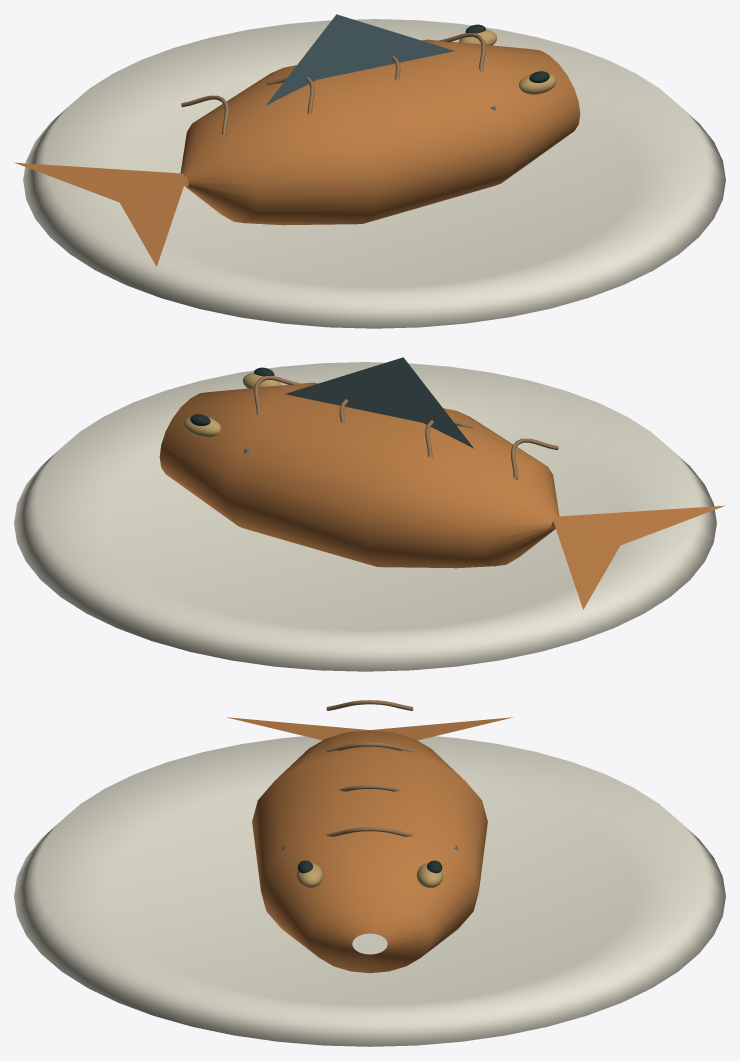
Rendered from half_fish.glb.
The picture shows the model from 3 angles, top to bottom: view 1: azimuth 30°, elevation 25°; view 2: azimuth 150°, elevation 25°; view 3: azimuth 270°, elevation 25°; orthographic projection.
Visible parts, largest first — view 1: half_fish; view 2: half_fish; view 3: half_fish.
Part boxes in pixels (bbox=[...]): half_fish: bbox=[14, 14, 725, 328]; half_fish: bbox=[14, 357, 725, 671]; half_fish: bbox=[14, 700, 725, 1046].
Bounding box in the file's own units: 0.32 × 0.1 × 0.32.
